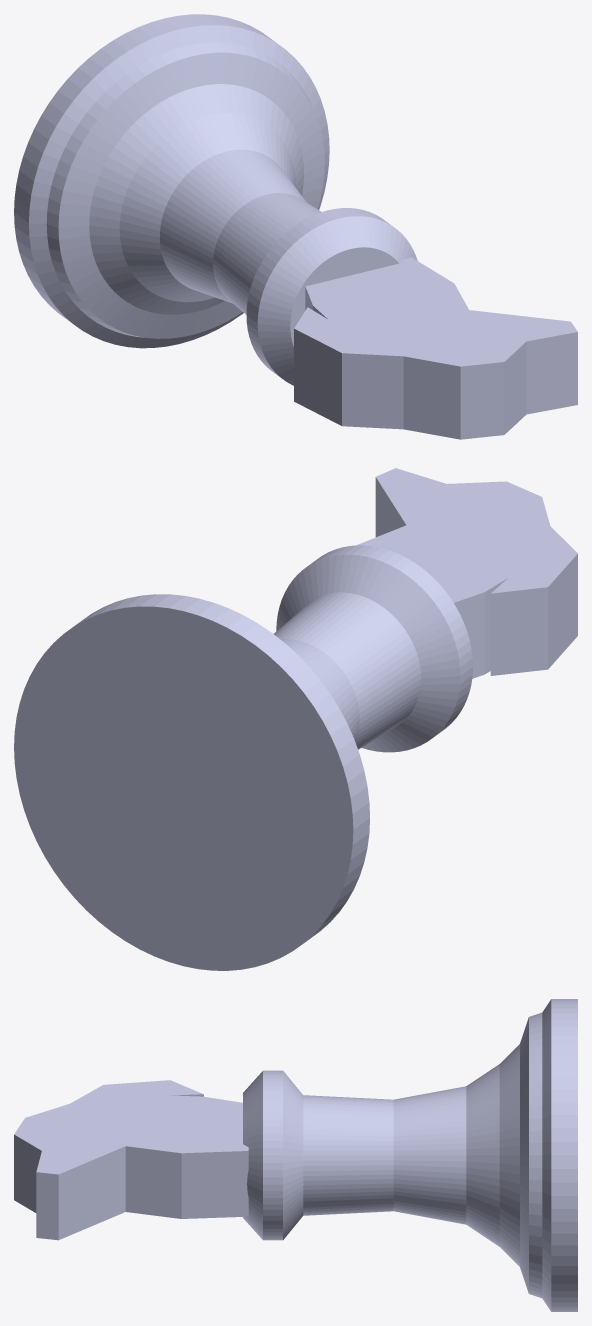
The model's file is ashvarohi_chandra.glb.
3 renders of one model, top to bottom at view 1: azimuth 30°, elevation 25°; view 2: azimuth 150°, elevation 25°; view 3: azimuth 270°, elevation 25°, orthographic. The views are drawn at different scales.
Visible parts, largest first — view 1: geometry_0; view 2: geometry_0; view 3: geometry_0.
Part boxes in pixels (x1,y1,x2,y2): geometry_0: (14, 14, 577, 439); geometry_0: (14, 468, 577, 970); geometry_0: (14, 999, 577, 1311).
Bounding box in the file's own units: 0.028 × 0.028 × 0.0505.
